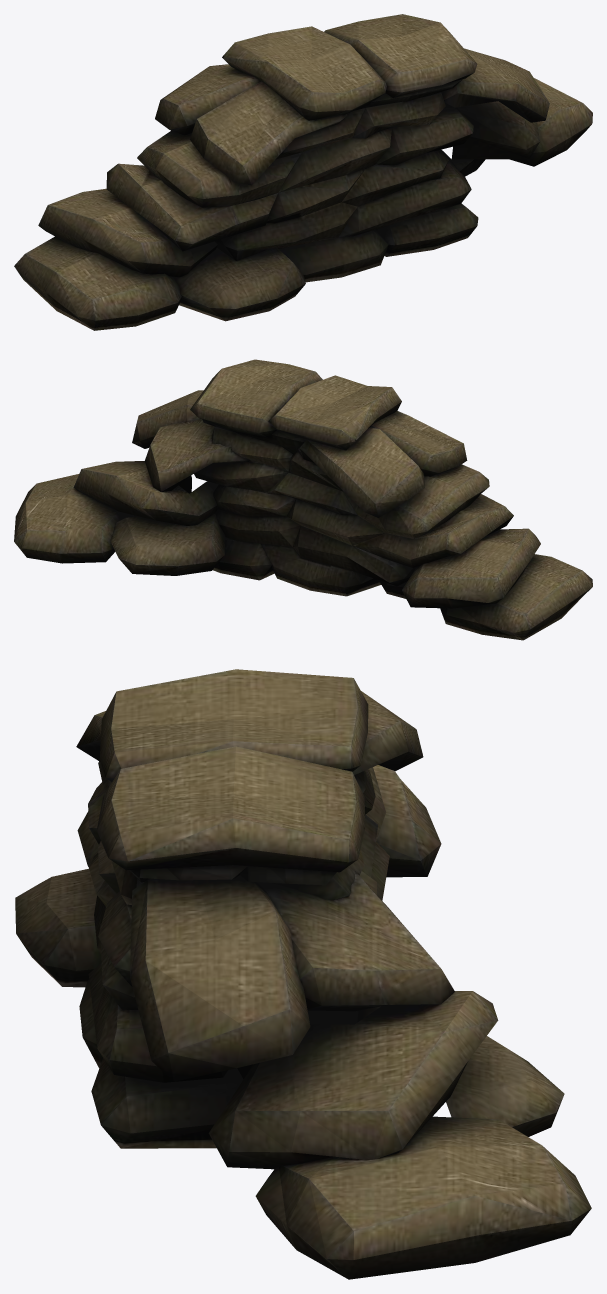
The model's file is sandwall.fbx.
3 renders of one model, top to bottom at view 1: azimuth 30°, elevation 25°; view 2: azimuth 150°, elevation 25°; view 3: azimuth 270°, elevation 25°, orthographic. The views are drawn at different scales.
Visible parts, largest first — view 1: Object.1; view 2: Object.1; view 3: Object.1.
Boxes of the visible parts, x1=… form: Object.1: x1=14, y1=14, x2=592, y2=330; Object.1: x1=14, y1=359, x2=592, y2=640; Object.1: x1=15, y1=669, x2=591, y2=1279.
Size of the model in its own units: 543 by 173 by 266.
